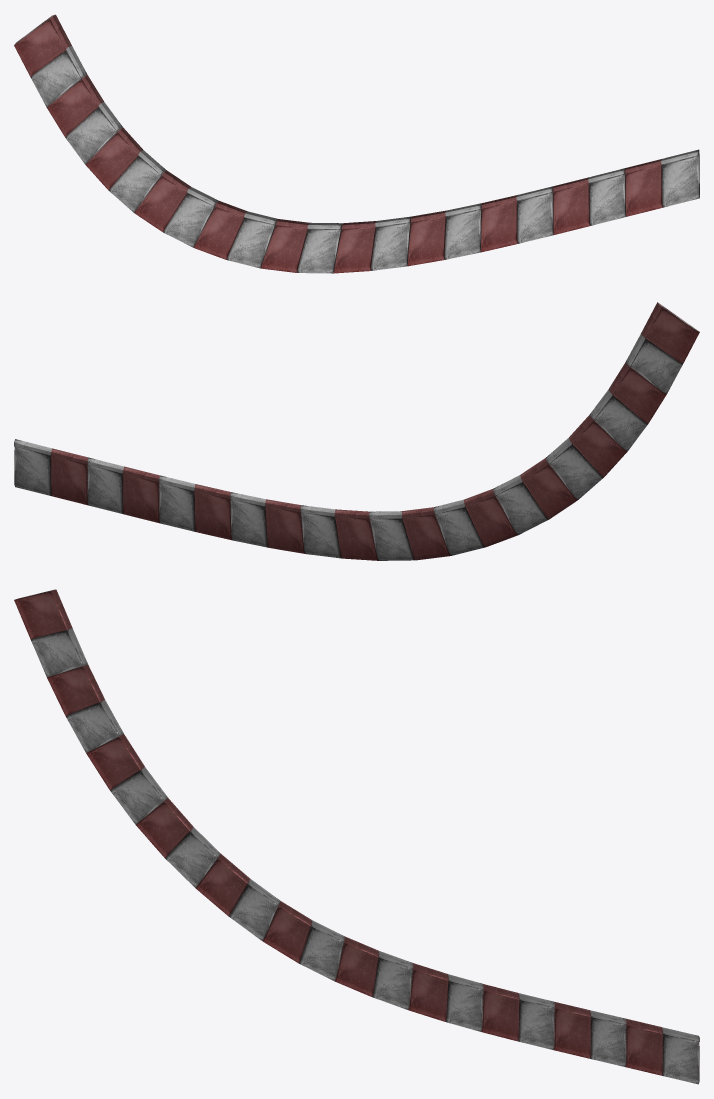
The model's file is _1KERB_01_07_Scene.234.obj.
3 views of the same model, one above another, from view 1: azimuth 30°, elevation 25°; view 2: azimuth 150°, elevation 25°; view 3: azimuth 330°, elevation 25° (orthographic).
Visible parts, largest first — view 1: _1KERB_01_07_Scene.234; view 2: _1KERB_01_07_Scene.234; view 3: _1KERB_01_07_Scene.234.
Part boxes in pixels (bbox=[...]): _1KERB_01_07_Scene.234: bbox=[14, 14, 699, 273]; _1KERB_01_07_Scene.234: bbox=[14, 302, 699, 560]; _1KERB_01_07_Scene.234: bbox=[14, 589, 699, 1084].
Bounding box in the file's own units: 19.06 × 9.1 × 0.1838.
